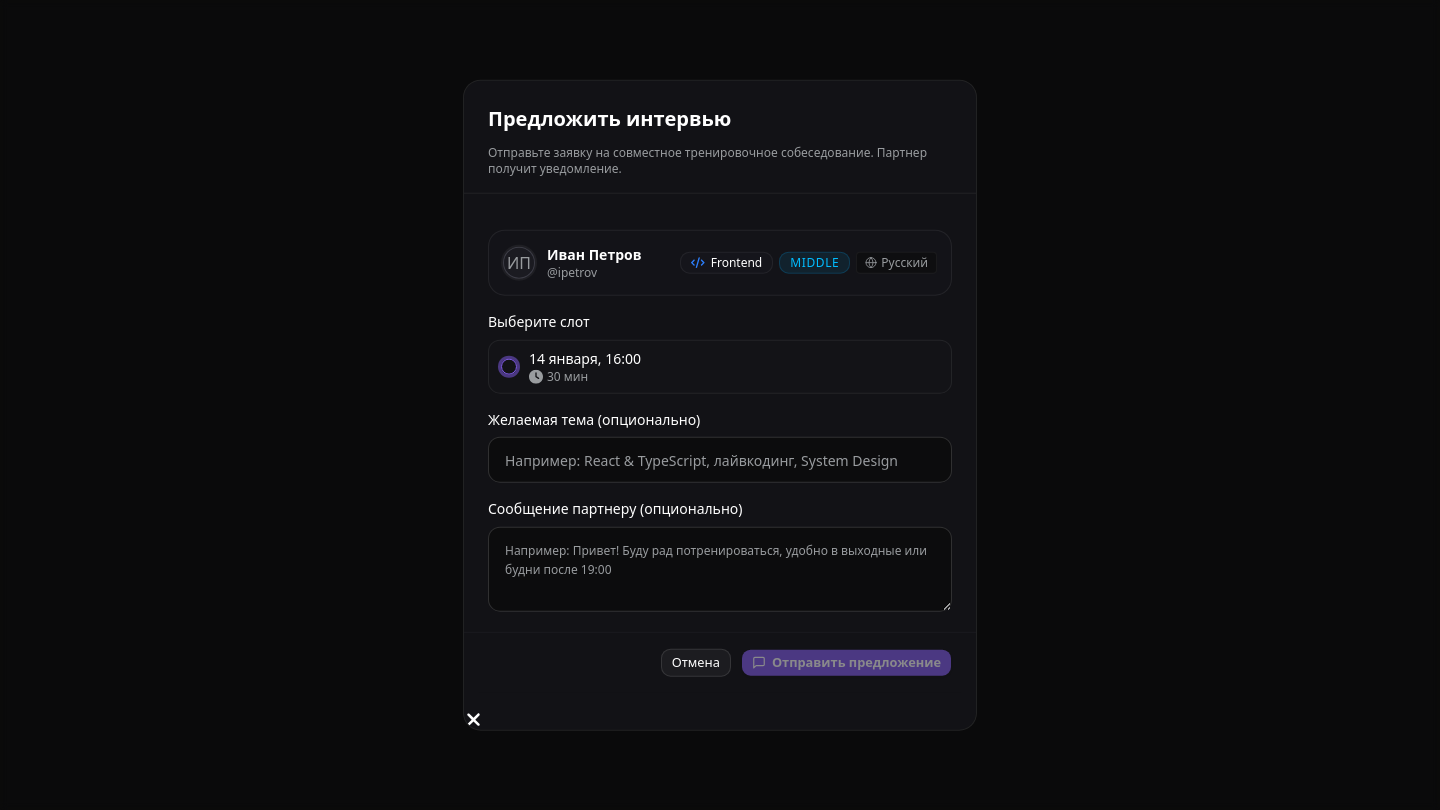
Test: SendMatchRequestDialog › при 409 показывает slotConflict, инвалидирует карточку, сбрасывает выбор и не закрывает диалог
This screenshot has width=1440, height=810.
Click the radio button at x=509, y=367, box [501, 359, 517, 375]
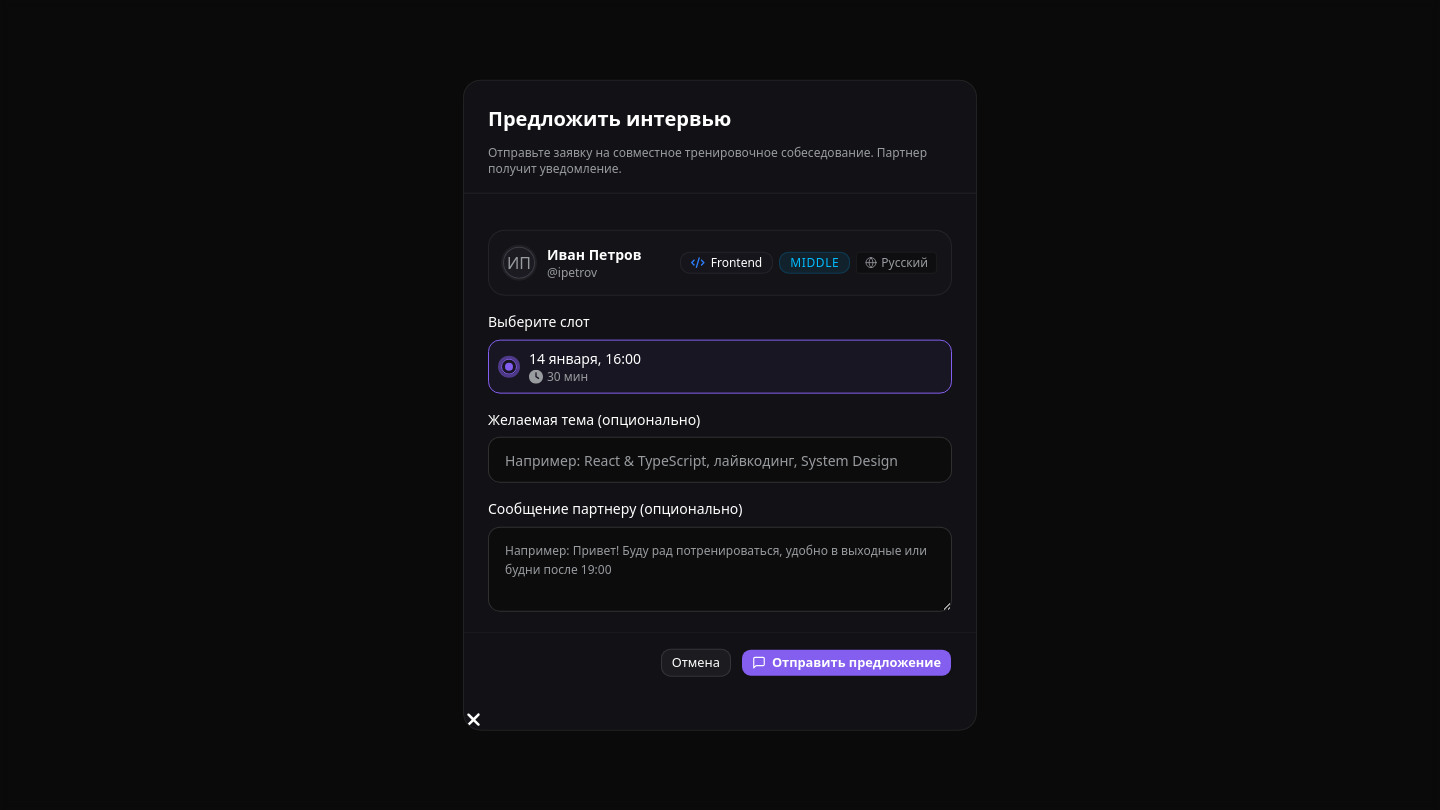
Submit the form, box [464, 210, 976, 692]
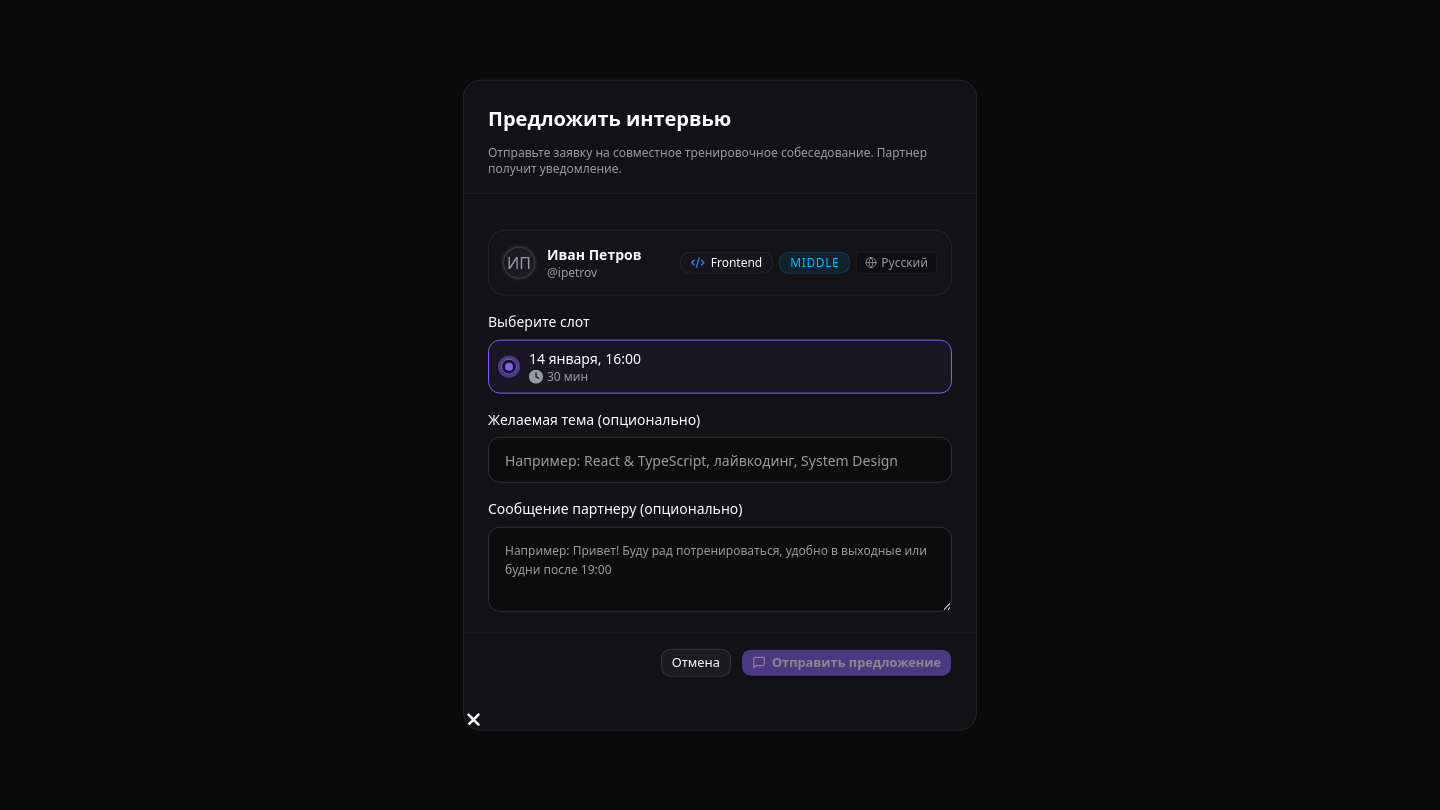
Expected: the dialog is shown, [464, 81, 976, 729]
Expected: the button "Отправить предложение" is disabled, [741, 648, 952, 676]
